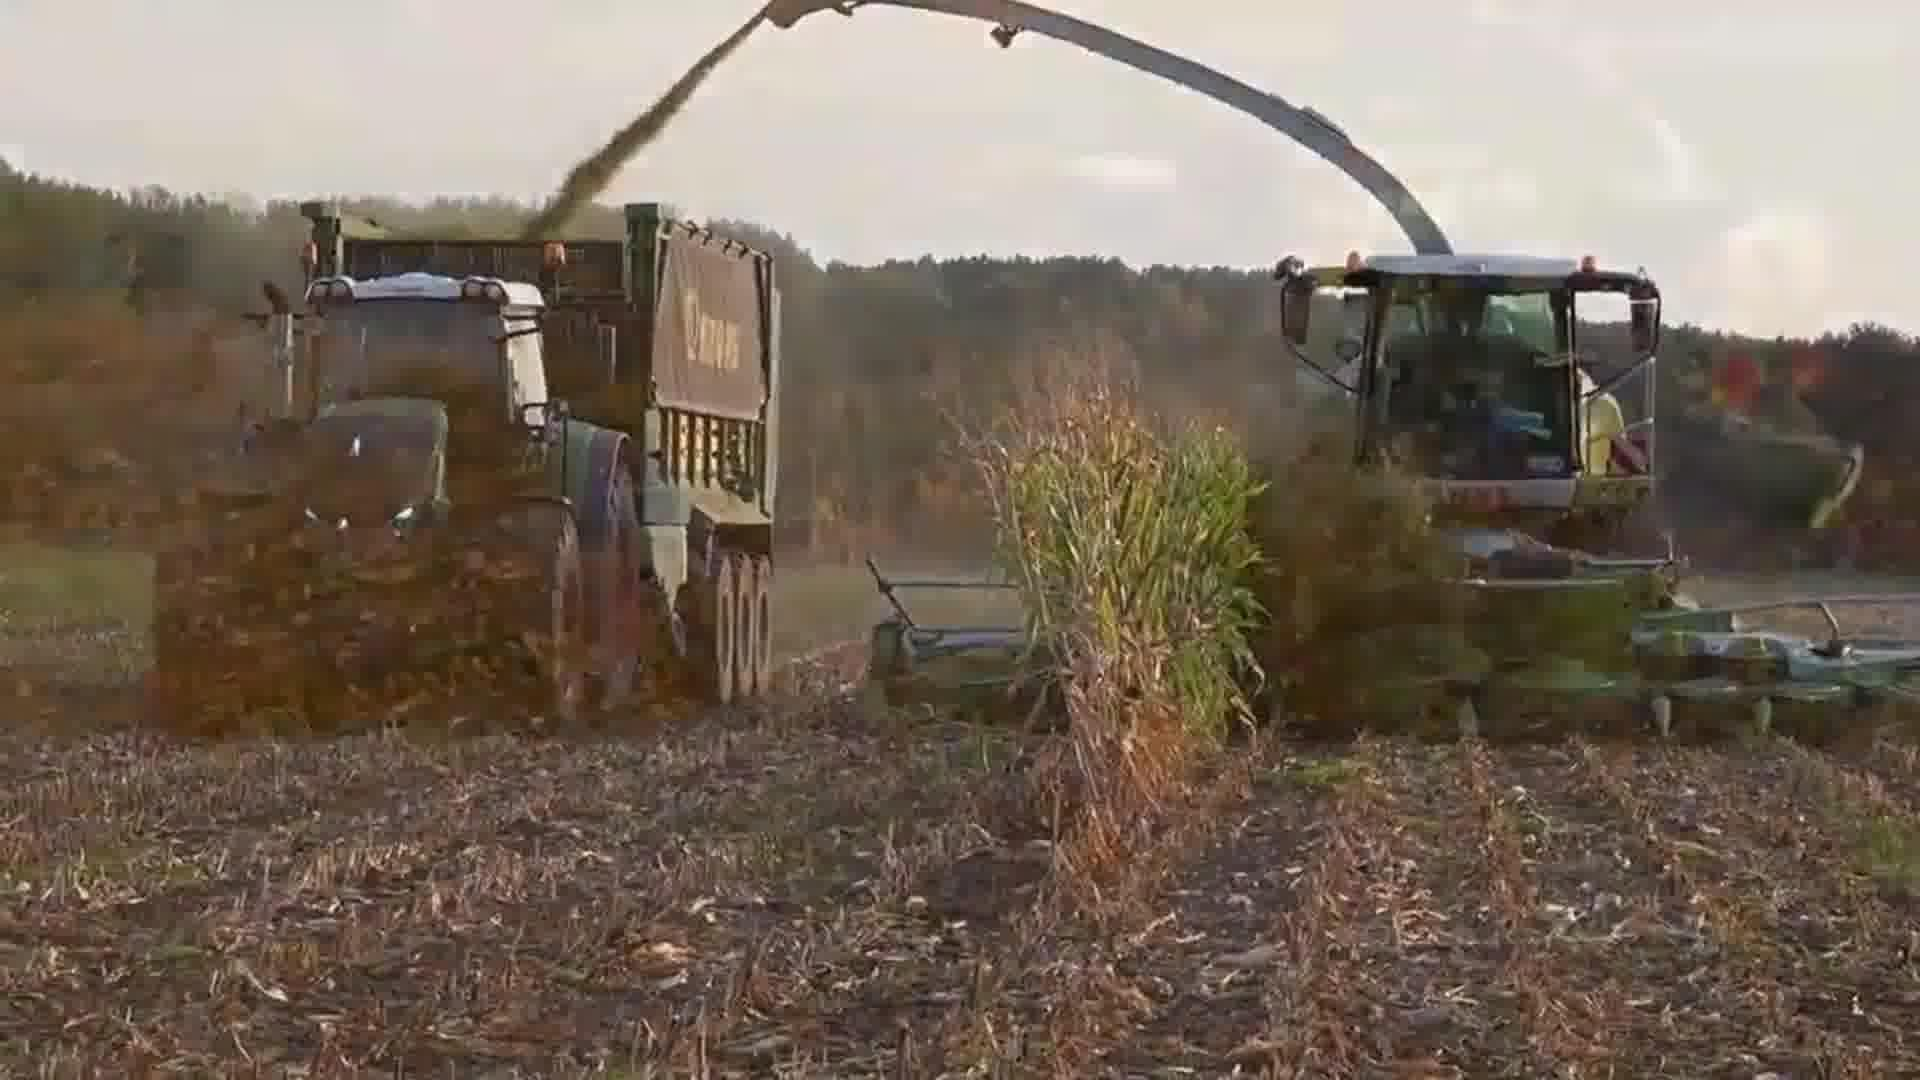combine harvester: (758, 0, 1920, 774)
tractor: (147, 229, 644, 739)
trailer: (297, 191, 784, 706)
